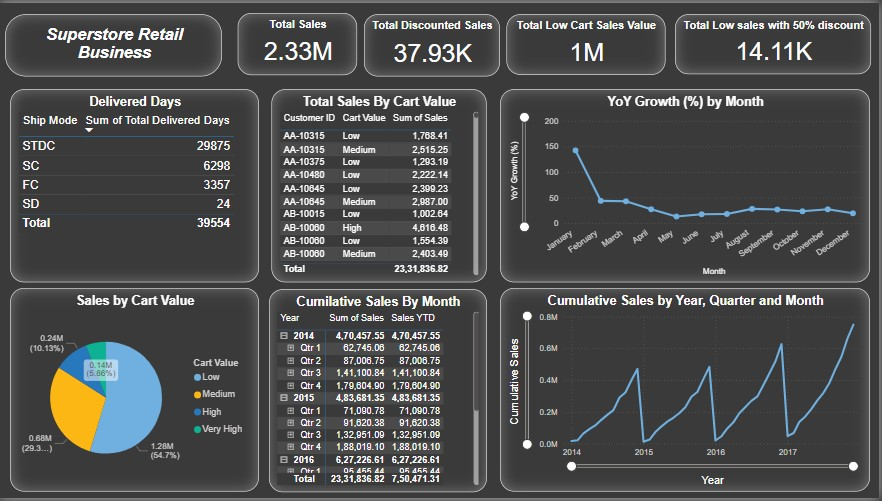

The dashboard page shown, as its layout file describes it:
{"tool":"powerbi","page":{"name":"Superstore Retail Analysis","canvas":[1280,720],"ordinal":0},"visuals":[{"type":"lineChart","fields":{"Y":["Orders.Cumulative Sales"],"Category":["Orders.Order Date.Variation.Date Hierarchy.Year","Orders.Order Date.Variation.Date Hierarchy.Quarter","Orders.Order Date.Variation.Date Hierarchy.Month","Orders.Order Date.Variation.Date Hierarchy.Day"]},"box":[729.5,415.3,537.9,296.3],"z":0},{"type":"lineChart","fields":{"Y":["Orders.YoY Growth (%)"],"Category":["Orders.Order Date.Variation.Date Hierarchy.Year","Orders.Order Date.Variation.Date Hierarchy.Quarter","Orders.Order Date.Variation.Date Hierarchy.Month","Orders.Order Date.Variation.Date Hierarchy.Day"]},"box":[729.5,125,537.9,280.9],"z":1000},{"type":"pivotTable","title":"Cumilative Sales By Month","fields":{"Rows":["Orders.Order Date.Variation.Date Hierarchy.Year","Orders.Order Date.Variation.Date Hierarchy.Quarter","Orders.Order Date.Variation.Date Hierarchy.Month","Orders.Order Date.Variation.Date Hierarchy.Day"],"Values":["Sum(Orders.Sales)","Orders.Sales YTD"]},"box":[392.7,416.5,316.6,295.1],"z":2000},{"type":"pieChart","title":"Sales by Cart Value","fields":{"Category":["Orders.Cart Value"],"Y":["Sum(Orders.Sales)"]},"box":[16.7,415.3,361.8,296.3],"z":3000},{"type":"tableEx","title":"Delivered Days","fields":{"Values":["Orders.Ship Mode","Sum(Orders.Days_to_Deliver)"]},"box":[16.7,125,361.8,280.9],"z":4000},{"type":"card","title":"Total Sales","fields":{"Values":["Sum(Orders.Sales)"]},"box":[347.5,14.3,173.8,90.4],"z":5000},{"type":"card","title":"Total Discounted Sales","fields":{"Values":["Sum(Orders.Discounted_Sales_Product)"]},"box":[530.8,15.5,197.6,90.4],"z":6000},{"type":"card","title":"Total Low sales with 50% discount","fields":{"Values":["Orders.Total Low Sales"]},"box":[983,16.7,284.4,86.9],"z":7000},{"type":"card","title":"Total Low Cart Sales Value","fields":{"Values":["Orders.Total Sales Low Cart Value"]},"box":[739,15.5,230.9,88.1],"z":8000},{"type":"tableEx","title":"Total Sales By Cart Value","fields":{"Values":["Orders.Customer ID","Orders.Cart Value","Sum(Orders.Sales)"]},"box":[396.3,125,313,280.9],"z":9000},{"type":"textbox","box":[8.3,16.7,315.4,90.4],"z":10000}]}

Visuals, with their boxes in screenshot pixels (x1, y1, x2, y2), scaled from the page's 1280x720 canvas onto the 882x501 screenshot:
lineChart - Orders.Cumulative Sales x Orders.Order Date.Variation.Date Hierarchy.Year: region(503, 289, 873, 495)
lineChart - Orders.YoY Growth (%) x Orders.Order Date.Variation.Date Hierarchy.Year: region(503, 87, 873, 282)
"Cumilative Sales By Month" pivotTable: region(271, 290, 489, 495)
"Sales by Cart Value" pieChart: region(12, 289, 261, 495)
"Delivered Days" tableEx: region(12, 87, 261, 282)
"Total Sales" card: region(239, 10, 359, 73)
"Total Discounted Sales" card: region(366, 11, 502, 74)
"Total Low sales with 50% discount" card: region(677, 12, 873, 72)
"Total Low Cart Sales Value" card: region(509, 11, 668, 72)
"Total Sales By Cart Value" tableEx: region(273, 87, 489, 282)
textbox: region(6, 12, 223, 75)
